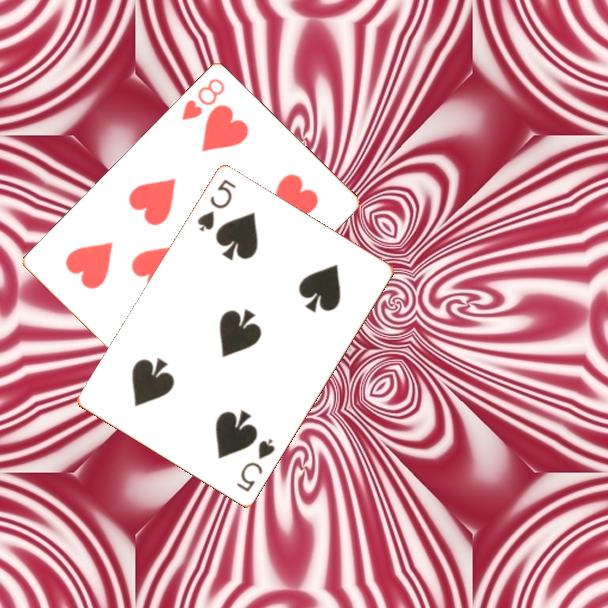h08: (178, 75, 228, 124)
s05: (233, 435, 278, 495), (194, 176, 239, 235)
